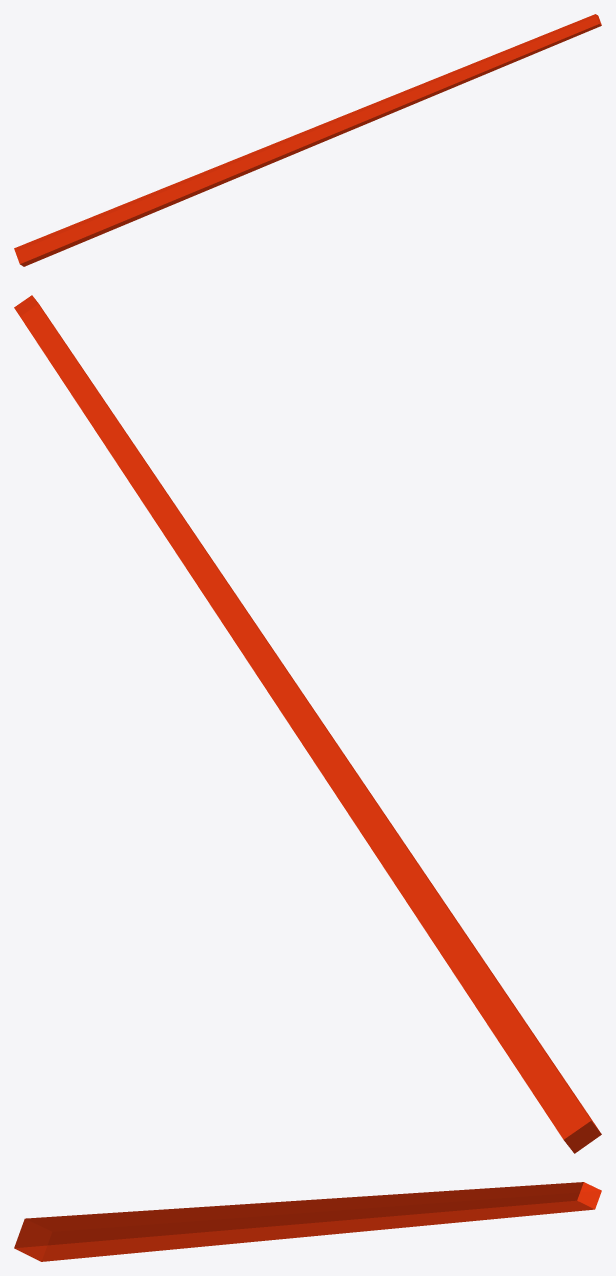
File: Event_421364160_EBrechit_17.fbx
3 views of the same model, one above another, from view 1: azimuth 30°, elevation 25°; view 2: azimuth 150°, elevation 25°; view 3: azimuth 330°, elevation 25° (orthographic). The views are drawn at different scales.
Visible parts, largest first — view 1: Model; view 2: Model; view 3: Model.
Part boxes in pixels (x1,y1,x2,y2): Model: (14,14,601,266); Model: (14,295,601,1153); Model: (14,1182,601,1261).
Bounding box in the file's own units: 2.63 × 1.41 × 1.53.
